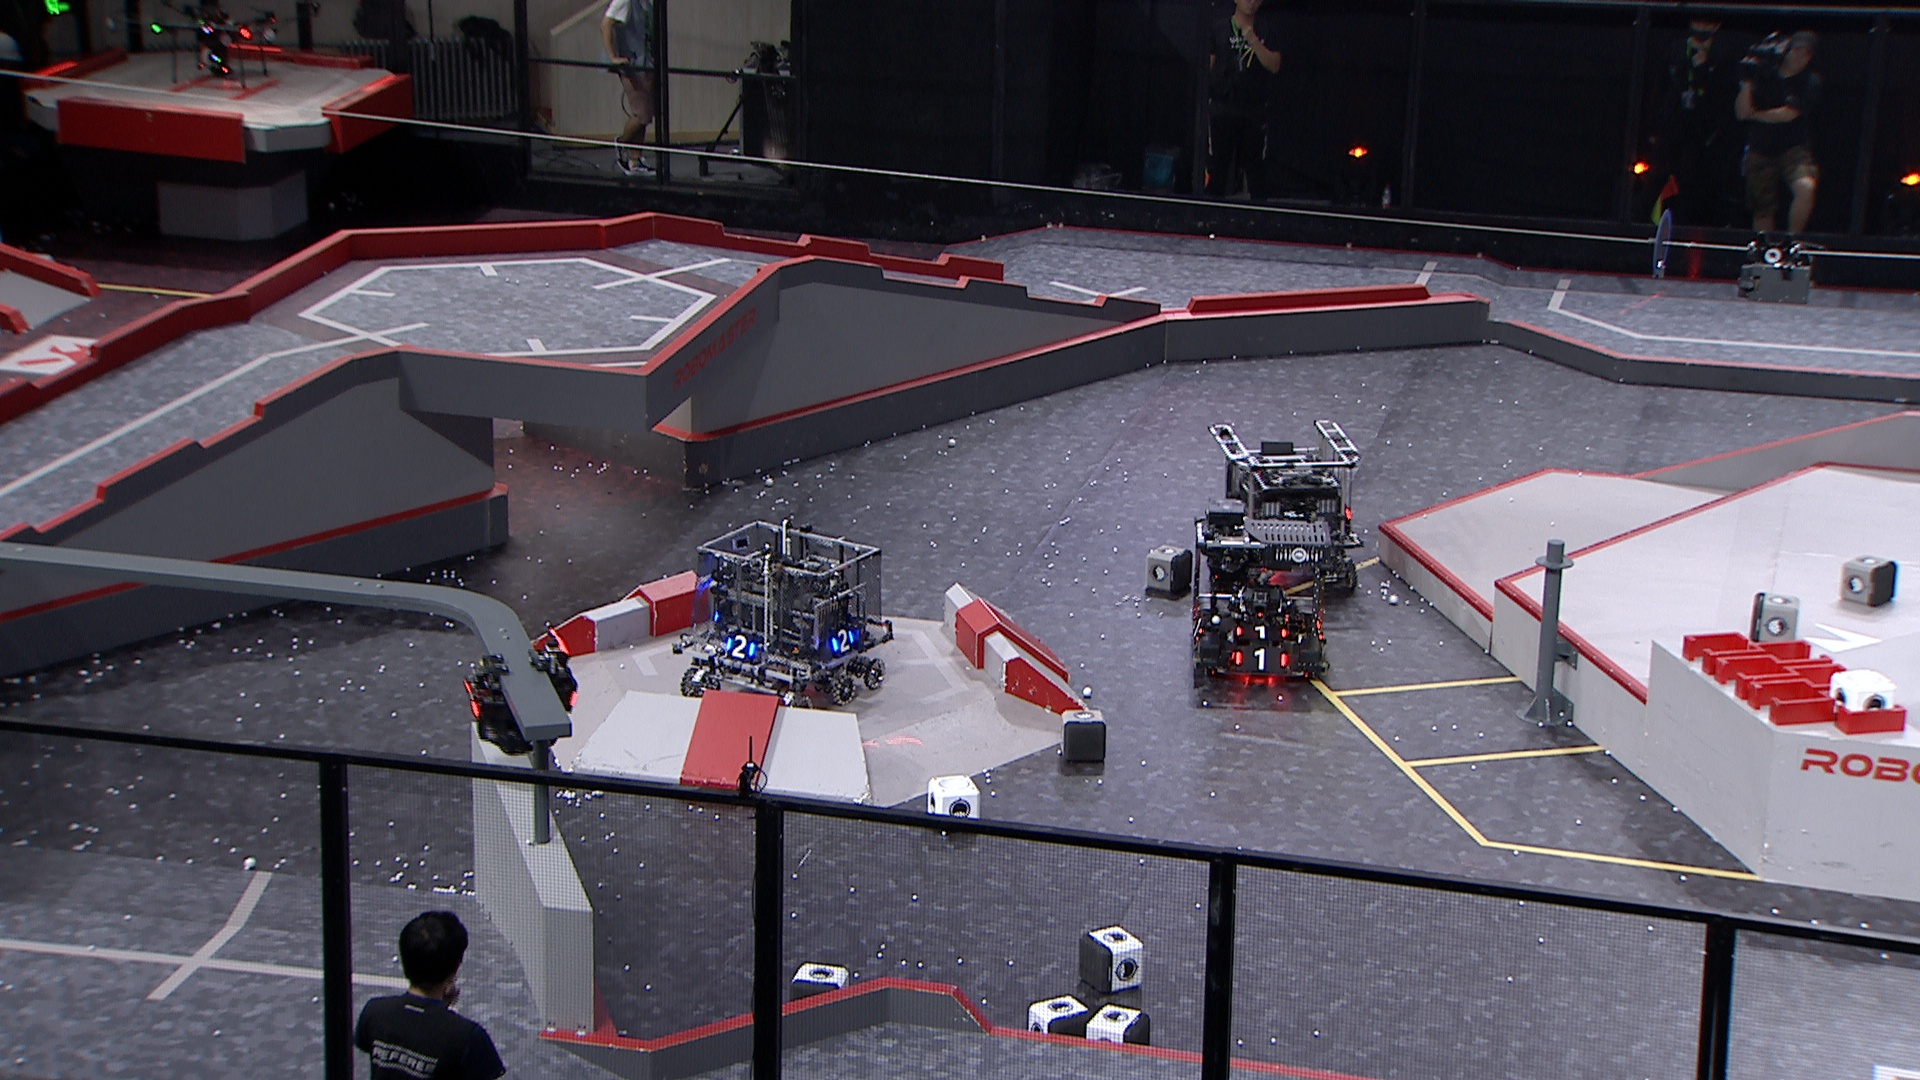armor: (1229, 646, 1288, 671), (1233, 621, 1288, 641), (458, 679, 484, 717), (723, 633, 760, 659), (831, 626, 856, 655), (1189, 616, 1207, 640)
car: (673, 520, 895, 717), (1185, 516, 1333, 705), (1207, 419, 1364, 597)
watcher: (456, 628, 580, 756)
